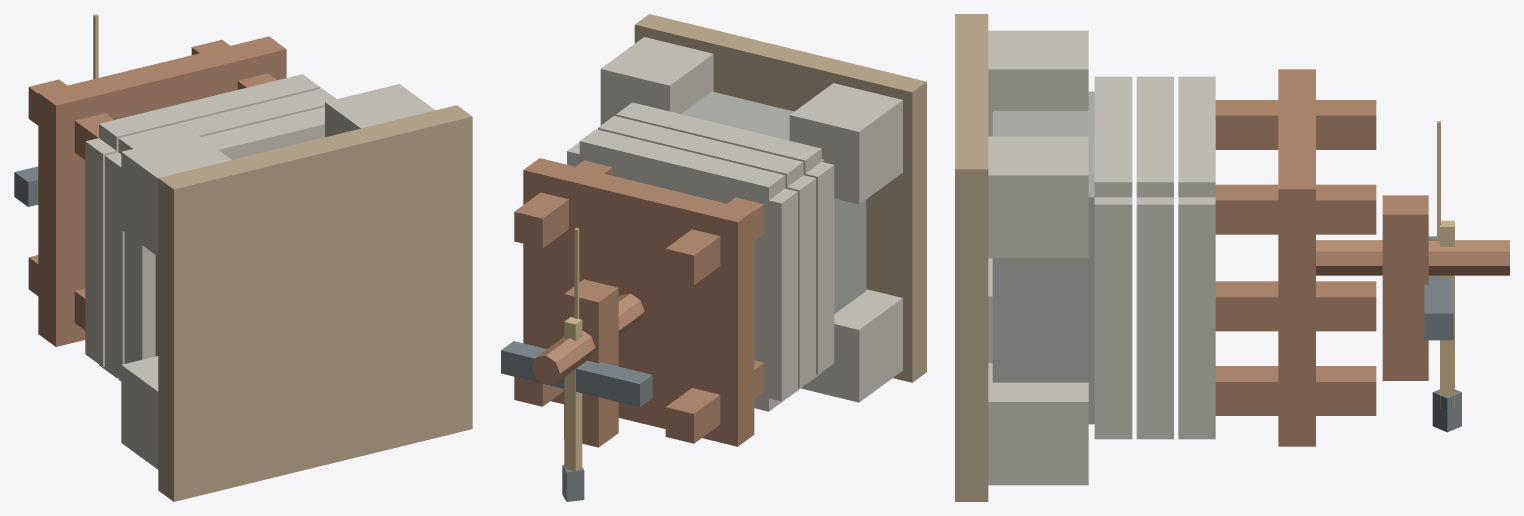
The model's file is arrow_tower_v3.glb.
The picture shows the model from 3 angles, left to right: view 1: azimuth 30°, elevation 25°; view 2: azimuth 150°, elevation 25°; view 3: azimuth 270°, elevation 25°; orthographic projection. The views are drawn at different scales.
Visible parts, largest first — view 1: single_cell_base, platform, stone_corner.001, wall_block_left.002, wall_block_back.002, wall_block_left.001, wall_block_back.001, wall_block_left, stone_corner, wall_block_back, stone_corner.003, wood_post.002 (+3 smaller); view 2: platform, single_cell_base, stone_corner.001, wall_block_left.002, wall_block_back.002, stone_corner, stone_corner.003, tower_body, crossbow_stock, wall_block_left, crossbow_arm, wall_block_left.001 (+10 smaller); view 3: tower_body, single_cell_base, platform, stone_corner.003, stone_corner.002, wall_block_right, wall_block_right.002, wall_block_right.001, crossbow_stock, stone_corner.001, wood_post, wood_post.003 (+9 smaller).
Part boxes in pixels (bbox=[...]): single_cell_base: bbox=[158, 105, 472, 501]; platform: bbox=[38, 36, 286, 346]; stone_corner.001: bbox=[121, 133, 231, 256]; wall_block_left.002: bbox=[85, 138, 118, 367]; wall_block_back.002: bbox=[99, 74, 320, 152]; wall_block_left.001: bbox=[105, 152, 124, 380]; wall_block_back.001: bbox=[118, 88, 336, 153]; wall_block_left: bbox=[124, 232, 155, 363]; stone_corner: bbox=[121, 356, 158, 469]; wall_block_back: bbox=[201, 107, 324, 159]; stone_corner.003: bbox=[325, 84, 435, 137]; wood_post.002: bbox=[28, 79, 113, 159]; platform: bbox=[523, 158, 754, 446]; single_cell_base: bbox=[634, 14, 926, 382]; stone_corner.001: bbox=[789, 83, 902, 204]; wall_block_left.002: bbox=[737, 188, 797, 401]; wall_block_back.002: bbox=[579, 129, 785, 233]; stone_corner: bbox=[801, 289, 902, 402]; stone_corner.003: bbox=[600, 37, 713, 125]; tower_body: bbox=[681, 91, 866, 313]; crossbow_stock: bbox=[564, 279, 618, 447]; wall_block_left: bbox=[803, 162, 834, 374]; crossbow_arm: bbox=[501, 341, 652, 407]; wall_block_left.001: bbox=[785, 175, 815, 388]; tower_body: bbox=[992, 91, 1094, 424]; single_cell_base: bbox=[955, 14, 988, 501]; platform: bbox=[1278, 69, 1315, 446]; stone_corner.003: bbox=[988, 136, 1088, 258]; stone_corner.002: bbox=[988, 363, 1088, 485]; wall_block_right: bbox=[1094, 197, 1132, 431]; wall_block_right.002: bbox=[1178, 197, 1215, 431]; wall_block_right.001: bbox=[1136, 197, 1173, 431]; crossbow_stock: bbox=[1382, 195, 1428, 380]; stone_corner.001: bbox=[988, 30, 1088, 136]; wood_post: bbox=[1215, 281, 1376, 331]; wood_post.003: bbox=[1215, 184, 1376, 234].
Bounding box in the file's own units: 0.88 × 0.885 × 1.33.
